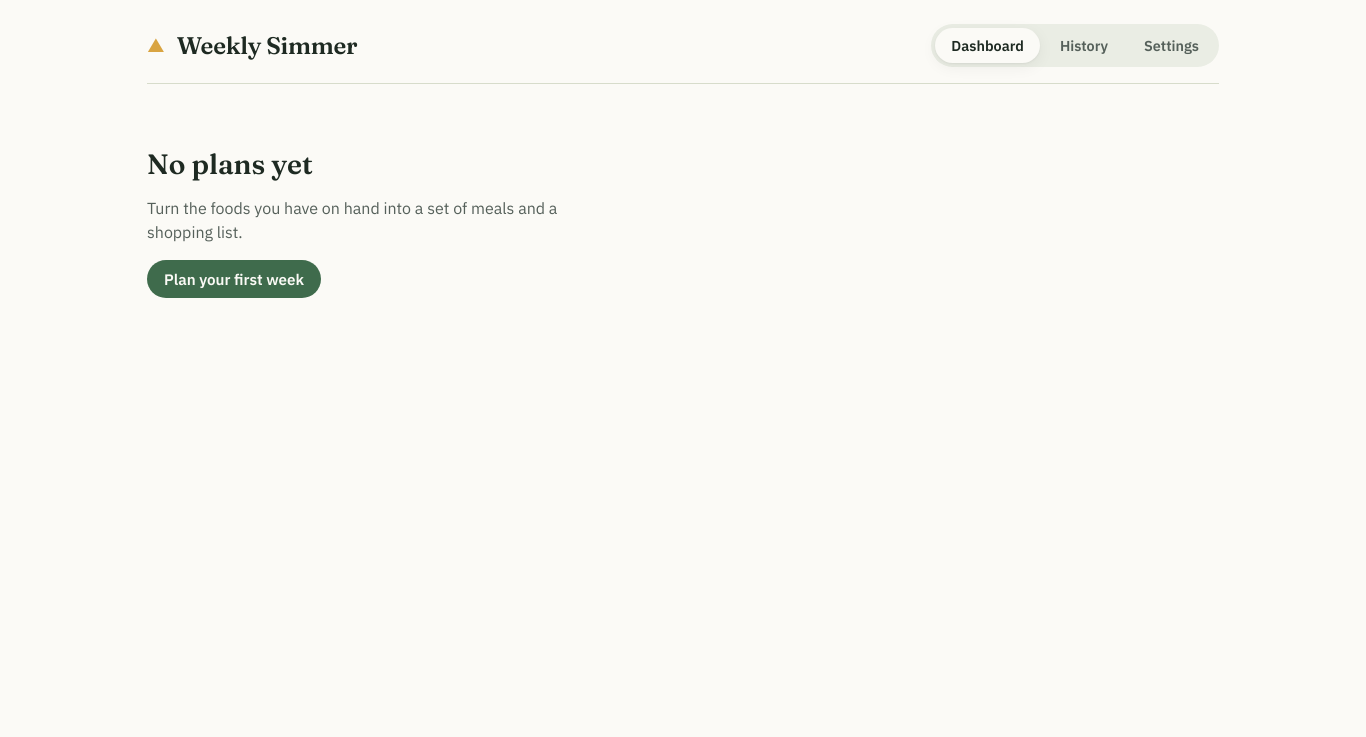
Test: App › clicking the brand returns to the Dashboard from Settings
Go to Settings first.
What coordinates should you click on to do the following:
click the button "Settings"
I would click on:
 (1172, 46)
Its box is [1128,28,1215,63].
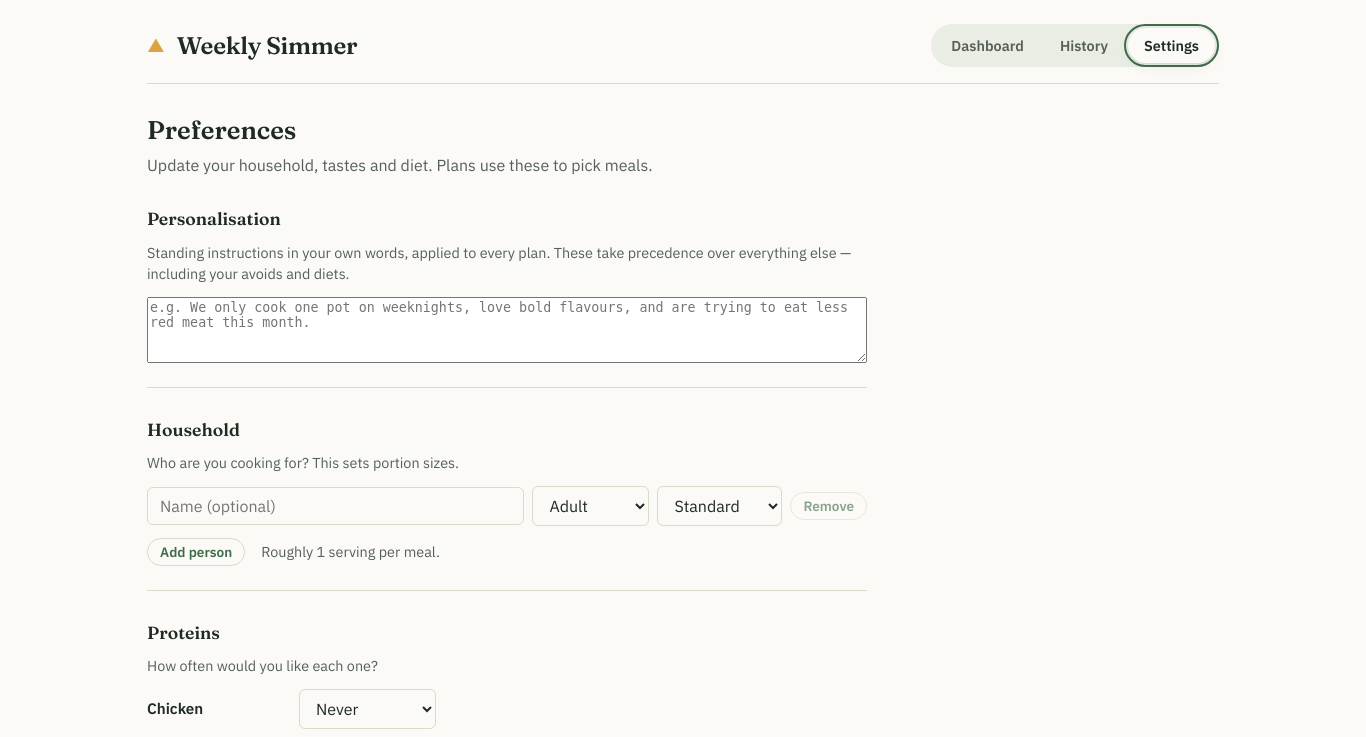
Expected: the heading "Preferences" is shown, [147,114,296,146]
Click the brand to go home.
What coordinates should you click on to do the following:
click the button with aria-label "weekly simmer home"
I would click on:
 (252, 46)
Its box is [147,32,357,59].
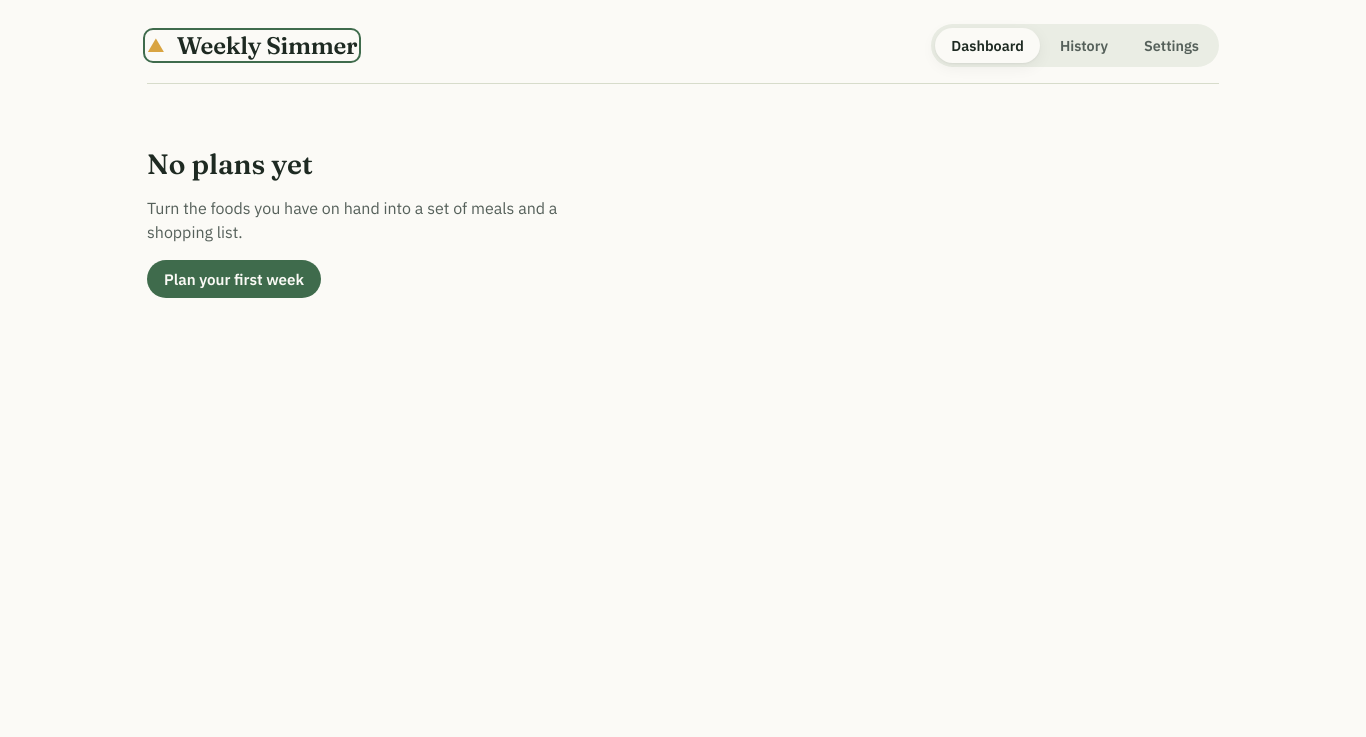
Expected: the button "Plan your first week" is shown, [147,260,321,298]
Expected: the heading "Preferences" is gone
